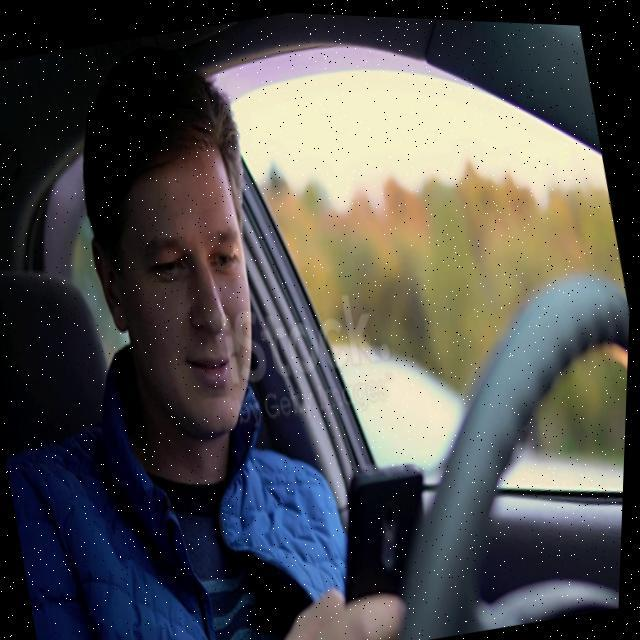PhoneCall: (311, 451, 454, 637)
